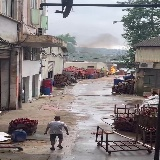fire: (110, 66, 115, 73)
